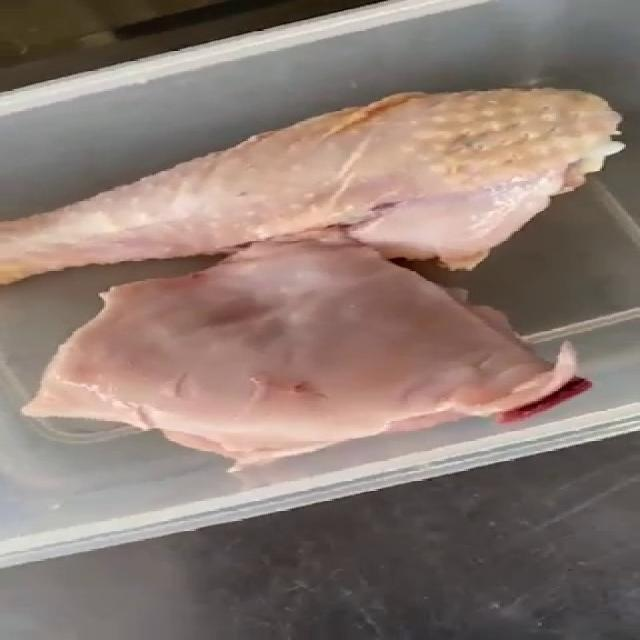chicken: (18, 231, 592, 479), (0, 85, 626, 286)
